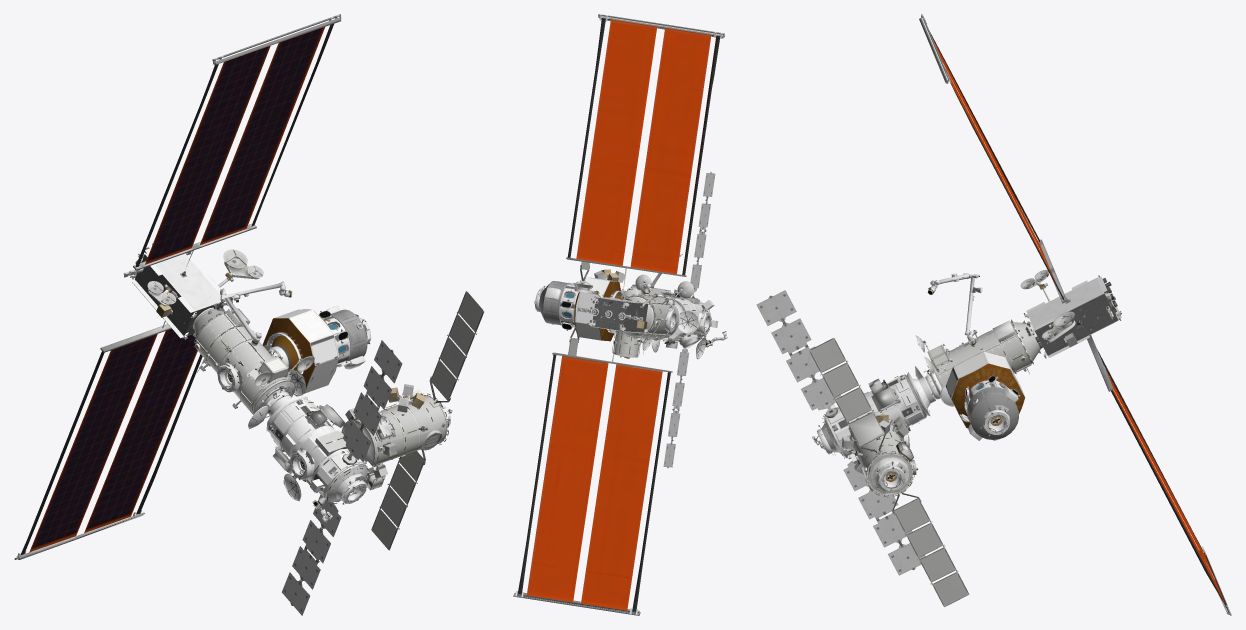
File: gateway.glb
3 views of the same model, side by side, from view 1: azimuth 30°, elevation 25°; view 2: azimuth 150°, elevation 25°; view 3: azimuth 270°, elevation 25° (orthographic). The views are drawn at different scales.
Parts seen in each view (by area): view 1: Maxar_PPE Array, I-Hab, Airlock, NG_HALO.001, ERMXL_LoRes, Maxar_PPE.001, NDS port active hatch.006, NDS port active hatch.007, Big Arm_1; view 2: Maxar_PPE Array, I-Hab, ERMXL_LoRes, Maxar_PPE.001, NG_HALO.001, Airlock, NDS port active hatch.006, NDS port active hatch.007; view 3: Airlock, I-Hab, Maxar_PPE.001, Maxar_PPE Array, ERMXL_LoRes, NG_HALO.001, NDS port active hatch.006, NDS port active hatch.007, Big Arm_1.
Part boxes in pixels (x1,y1,x2,y2): Maxar_PPE Array: [14, 14, 341, 559]; I-Hab: [266, 340, 402, 615]; Airlock: [341, 291, 484, 550]; NG_HALO.001: [193, 307, 314, 417]; ERMXL_LoRes: [262, 305, 367, 393]; Maxar_PPE.001: [123, 243, 263, 340]; NDS port active hatch.006: [248, 396, 450, 504]; NDS port active hatch.007: [217, 314, 371, 413]; Big Arm_1: [220, 281, 332, 522]; Maxar_PPE Array: [513, 14, 724, 615]; I-Hab: [662, 172, 718, 468]; ERMXL_LoRes: [539, 277, 624, 341]; Maxar_PPE.001: [573, 281, 675, 333]; NG_HALO.001: [620, 274, 693, 354]; Airlock: [568, 261, 650, 358]; NDS port active hatch.006: [642, 307, 711, 359]; NDS port active hatch.007: [534, 286, 676, 332]; Airlock: [809, 338, 969, 607]; I-Hab: [756, 290, 930, 575]; Maxar_PPE.001: [1020, 269, 1121, 358]; Maxar_PPE Array: [919, 14, 1231, 615]; ERMXL_LoRes: [945, 351, 1025, 440]; NG_HALO.001: [915, 319, 1041, 396]; NDS port active hatch.006: [816, 366, 935, 491]; NDS port active hatch.007: [925, 342, 1009, 436]; Big Arm_1: [812, 273, 982, 448].
Size of the model in its own units: 17.88 by 38.97 by 30.06.
13 materials, 13 textured.
